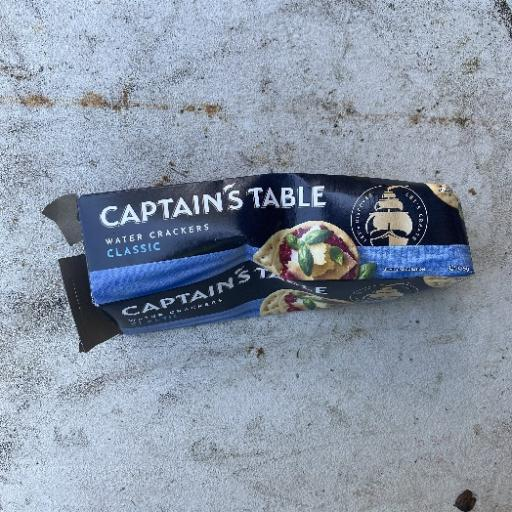Cardboard: (70, 171, 476, 343)
